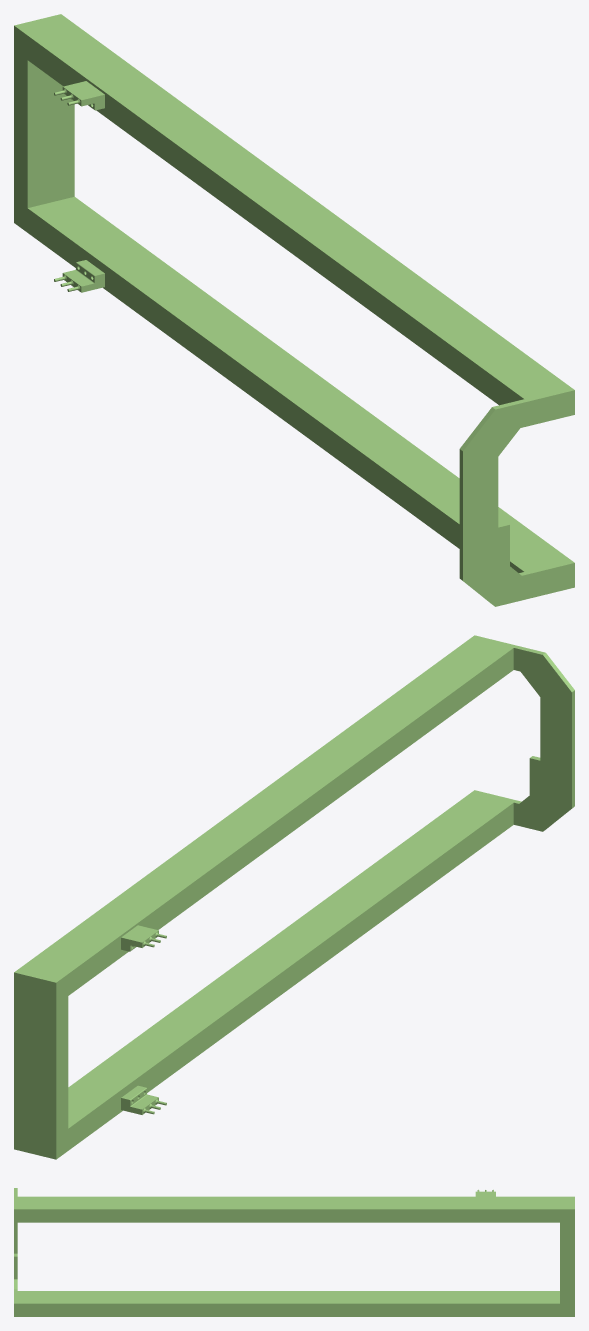
The picture shows the model from 3 angles, top to bottom: view 1: azimuth 30°, elevation 25°; view 2: azimuth 150°, elevation 25°; view 3: azimuth 270°, elevation 25°; orthographic projection. The views are drawn at different scales.
Parts seen in each view (by area): view 1: Elev First Stage; view 2: Elev First Stage; view 3: Elev First Stage.
Boxes of the visible parts, x1,y1,x2,y2 form: Elev First Stage: (14, 14, 574, 606); Elev First Stage: (14, 635, 574, 1159); Elev First Stage: (14, 1188, 574, 1316).
Bounding box in the file's own units: 0.1206 × 0.2032 × 0.9589.
